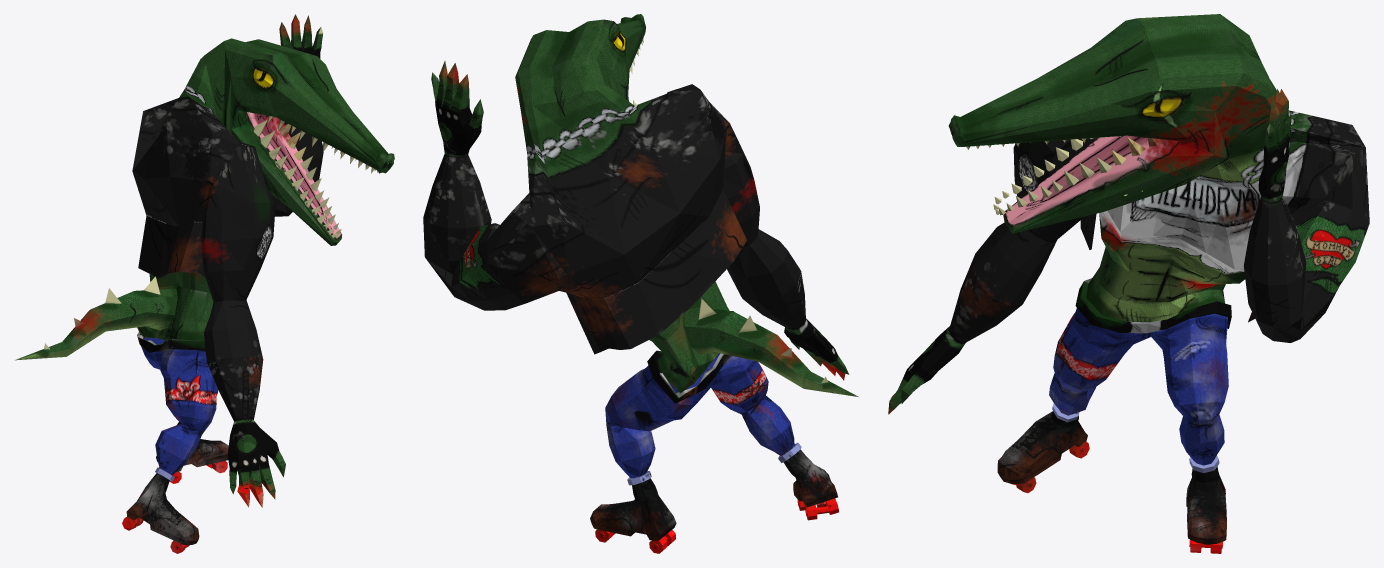
The model's file is cocodrilaBonesSelect_000002.obj.
3 renders of one model, left to right at view 1: azimuth 30°, elevation 25°; view 2: azimuth 150°, elevation 25°; view 3: azimuth 270°, elevation 25°, orthographic. The views are drawn at different scales.
Parts seen in each view (by area): view 1: Crocodile.002_Cylinder.002; view 2: Crocodile.002_Cylinder.002; view 3: Crocodile.002_Cylinder.002.
Part boxes in pixels (<box>): Crocodile.002_Cylinder.002: <box>15,14,394,553</box>; Crocodile.002_Cylinder.002: <box>423,14,858,553</box>; Crocodile.002_Cylinder.002: <box>888,14,1369,553</box>.
Size of the model in its own units: 5.13 by 6.13 by 4.8.
